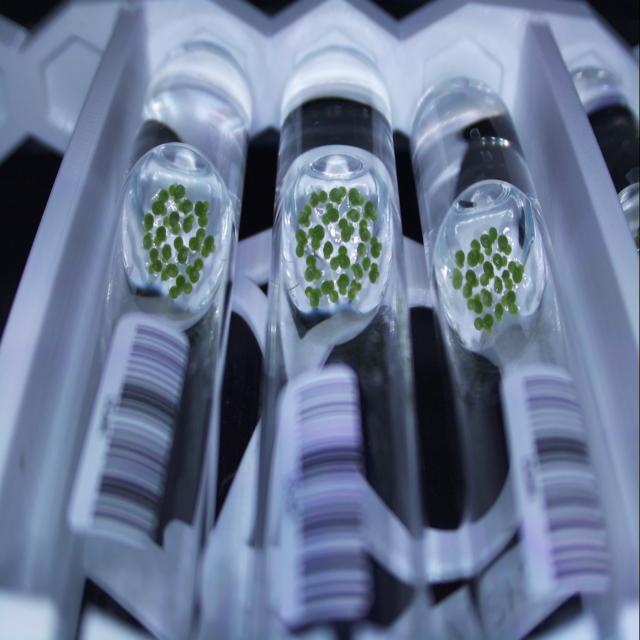Lemna-Gibba: (169, 275, 192, 299), (480, 227, 498, 255), (330, 245, 350, 270), (462, 270, 479, 299), (151, 188, 169, 215), (185, 259, 204, 284), (468, 238, 484, 267), (162, 212, 181, 235), (194, 200, 210, 227), (174, 237, 190, 264), (305, 255, 321, 282), (321, 280, 339, 304), (321, 202, 339, 225), (309, 225, 325, 250), (474, 314, 494, 334), (189, 228, 205, 252), (295, 228, 308, 257), (504, 290, 519, 315), (339, 218, 354, 242), (305, 287, 321, 309), (480, 262, 494, 287), (149, 248, 162, 274), (296, 205, 311, 227), (509, 262, 524, 284), (169, 183, 185, 203), (466, 294, 482, 314), (201, 235, 215, 257), (364, 200, 378, 222), (310, 190, 328, 207), (336, 274, 350, 295), (161, 264, 179, 280), (492, 252, 508, 270), (329, 187, 346, 203), (349, 188, 364, 206), (154, 225, 166, 247), (370, 237, 382, 259), (182, 213, 195, 233), (498, 235, 511, 255), (179, 198, 194, 215), (348, 280, 361, 299), (359, 218, 370, 240), (502, 270, 514, 290), (161, 243, 172, 264), (142, 213, 154, 232), (369, 264, 379, 284), (452, 269, 462, 289), (494, 302, 504, 322), (481, 289, 492, 307), (346, 208, 360, 222), (351, 264, 364, 279), (142, 232, 152, 250), (455, 250, 465, 267), (324, 242, 334, 258), (494, 275, 502, 294), (358, 242, 366, 257), (362, 257, 371, 270), (471, 240, 480, 251)
